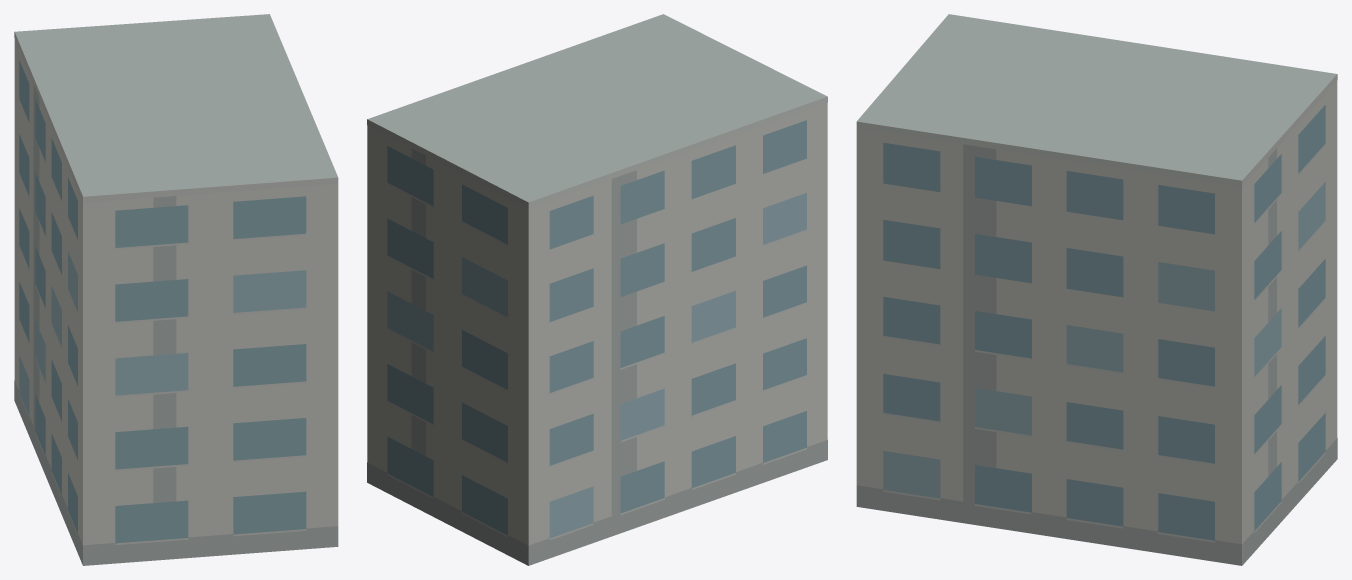
Rendered from survey-upis-32887500.glb.
The picture shows the model from 3 angles, left to right: view 1: azimuth 30°, elevation 25°; view 2: azimuth 150°, elevation 25°; view 3: azimuth 270°, elevation 25°; orthographic projection. The views are drawn at different scales.
Parts seen in each view (by area): view 1: survey-upis-32887500.tmp; view 2: survey-upis-32887500.tmp; view 3: survey-upis-32887500.tmp.
Part boxes in pixels (x1=…): survey-upis-32887500.tmp: x1=14, y1=14, x2=338, y2=565; survey-upis-32887500.tmp: x1=367, y1=14, x2=827, y2=565; survey-upis-32887500.tmp: x1=856, y1=14, x2=1337, y2=565.
Size of the model in its own units: 13.55 by 14.6 by 16.53.
